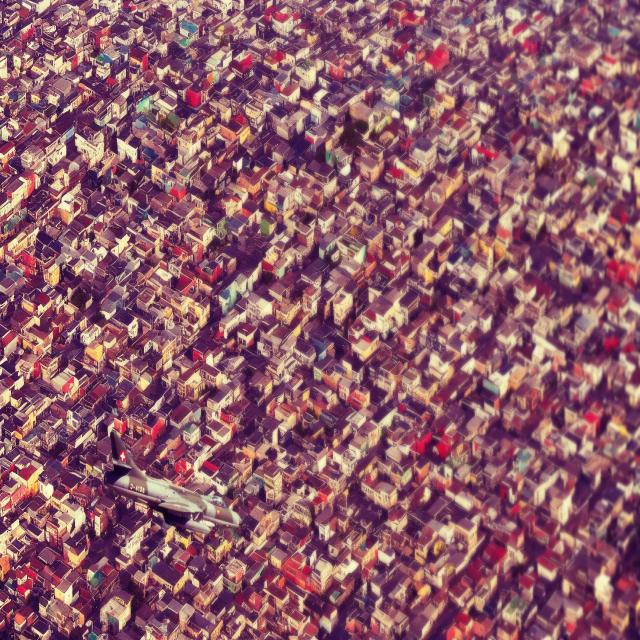airplane: (103, 428, 242, 539)
